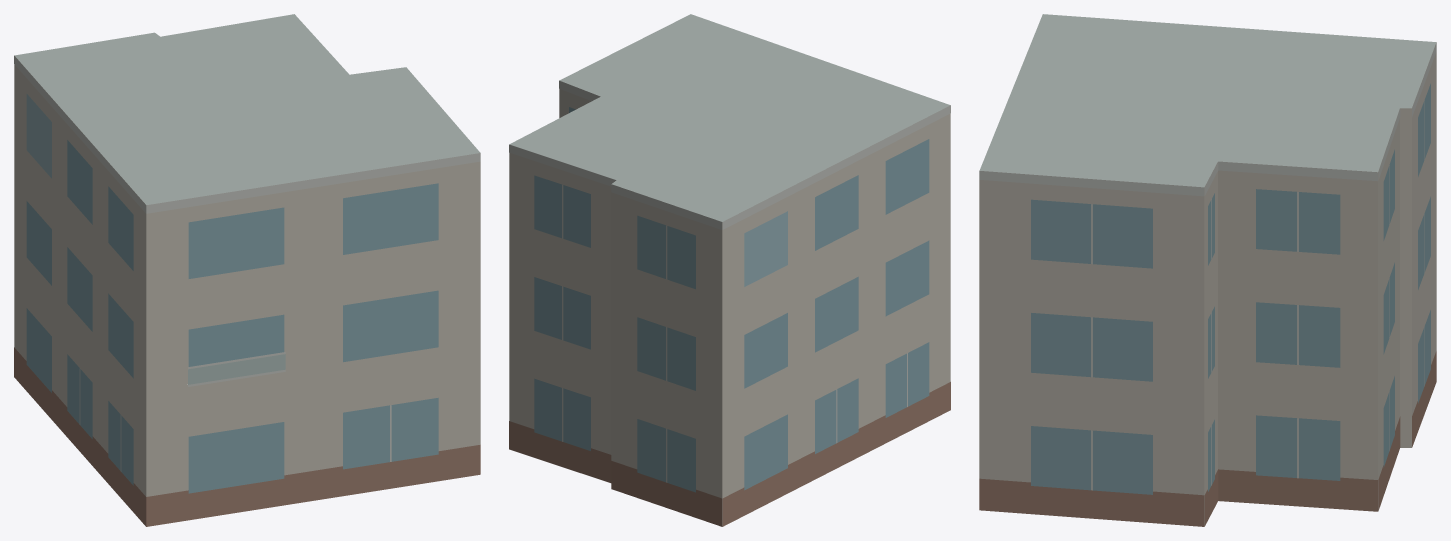
The model's file is survey-upis-32964757.glb.
3 views of the same model, side by side, from view 1: azimuth 30°, elevation 25°; view 2: azimuth 150°, elevation 25°; view 3: azimuth 270°, elevation 25° (orthographic). The views are drawn at different scales.
Parts seen in each view (by area): view 1: survey-upis-32964757.tmp; view 2: survey-upis-32964757.tmp; view 3: survey-upis-32964757.tmp.
Part boxes in pixels (left/top/right/bottom): survey-upis-32964757.tmp: left=14, top=14, right=480, bottom=526; survey-upis-32964757.tmp: left=509, top=14, right=950, bottom=526; survey-upis-32964757.tmp: left=979, top=14, right=1436, bottom=526.
Size of the model in its own units: 10.03 by 9.15 by 11.18.
